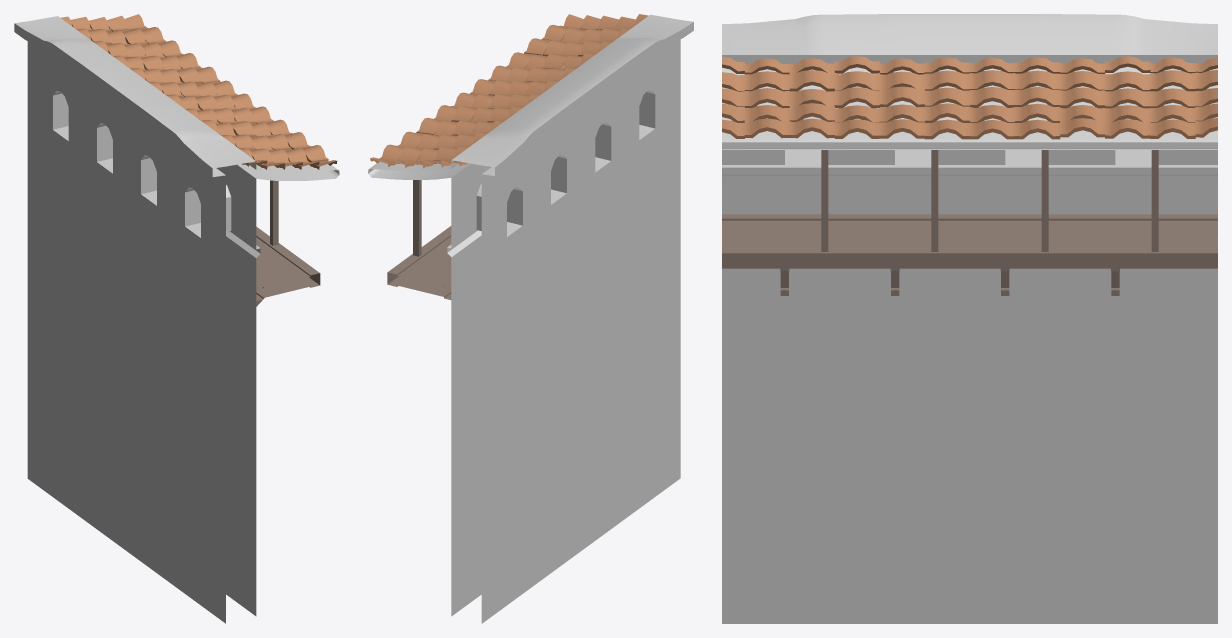
File: CityWallStraightModel.fbx
3 renders of one model, left to right at view 1: azimuth 30°, elevation 25°; view 2: azimuth 150°, elevation 25°; view 3: azimuth 270°, elevation 25°, orthographic. The views are drawn at different scales.
Parts seen in each view (by area): view 1: Wall, MASH2_ReproMesh, Walkway, SupportBeam; view 2: Wall, MASH2_ReproMesh, Walkway, SupportBeam3; view 3: Wall, MASH2_ReproMesh, Walkway, SupportBeam, SupportBeam1, SupportBeam2, SupportBeam3.
Part boxes in pixels (x1=…): Wall: x1=14, y1=16, x2=339, y2=623; MASH2_ReproMesh: x1=60, y1=14, x2=337, y2=169; Walkway: x1=256, y1=226, x2=320, y2=300; SupportBeam: x1=270, y1=180, x2=278, y2=245; Wall: x1=368, y1=14, x2=693, y2=623; MASH2_ReproMesh: x1=370, y1=14, x2=648, y2=168; Walkway: x1=387, y1=226, x2=451, y2=299; SupportBeam3: x1=413, y1=180, x2=421, y2=256; Wall: x1=722, y1=14, x2=1217, y2=623; MASH2_ReproMesh: x1=722, y1=56, x2=1217, y2=139; Walkway: x1=722, y1=214, x2=1217, y2=268; SupportBeam: x1=821, y1=150, x2=828, y2=251; SupportBeam1: x1=931, y1=150, x2=938, y2=251; SupportBeam2: x1=1041, y1=150, x2=1048, y2=251; SupportBeam3: x1=1151, y1=150, x2=1158, y2=251.
Bounding box in the file's own units: 320 × 1126 × 867.
